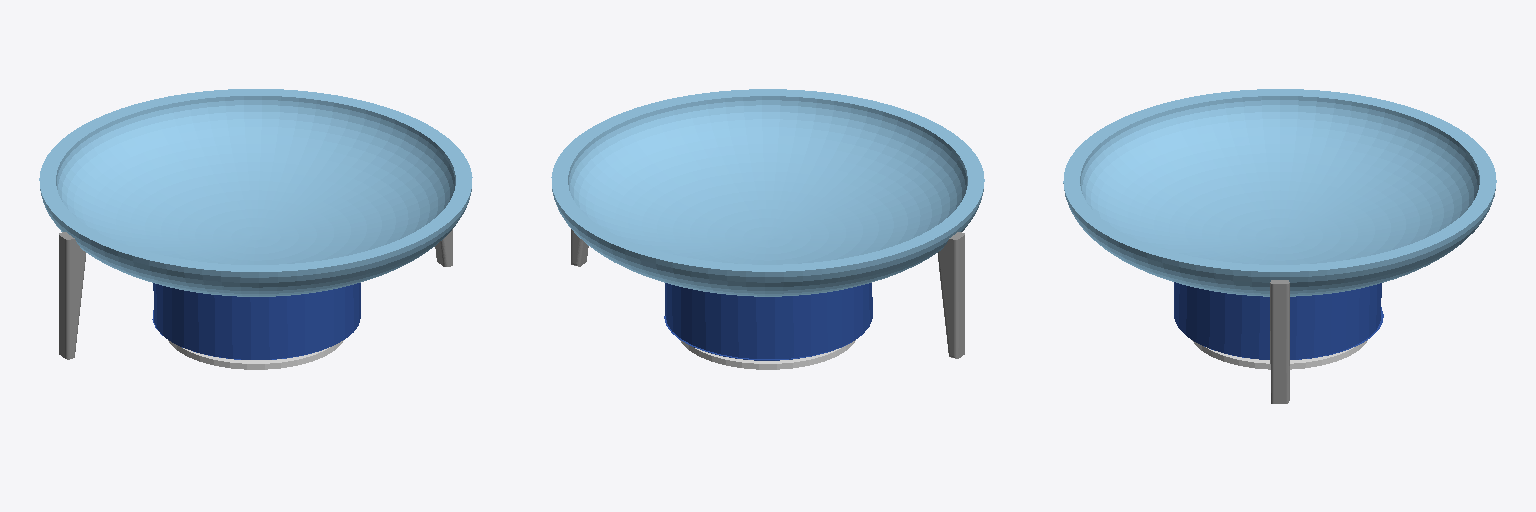
The model's file is part_dips_coarse_rot.obj.
The picture shows the model from 3 angles: view 1: azimuth 30°, elevation 25°; view 2: azimuth 150°, elevation 25°; view 3: azimuth 270°, elevation 25°; orthographic projection.
Visible parts, largest first — view 1: mesh32, mesh30, mesh33, mesh34, mesh15, mesh27, mesh12, mesh13; view 2: mesh32, mesh30, mesh33, mesh34, mesh21, mesh27, mesh12, mesh16; view 3: mesh32, mesh30, mesh33, mesh34, mesh0, mesh27.
Part boxes in pixels (x1,y1,x2,y2): mesh32: (56,96,455,264); mesh30: (153,283,360,359); mesh33: (39,89,472,271); mesh34: (40,189,471,296); mesh15: (70,239,84,358); mesh27: (168,340,343,369); mesh12: (59,235,64,357); mesh13: (65,239,69,359); mesh32: (568,96,967,264); mesh30: (665,283,872,360); mesh33: (551,89,984,271); mesh34: (552,189,983,296); mesh21: (939,239,953,355); mesh27: (680,340,855,369); mesh12: (959,235,964,357); mesh16: (954,239,958,358); mesh32: (1080,96,1479,264); mesh30: (1174,282,1381,359); mesh33: (1063,89,1496,271); mesh34: (1063,183,1495,296); mesh0: (1274,284,1285,403); mesh27: (1192,340,1367,369).
Bounding box in the file's own units: 0.2479 × 0.0926 × 0.2399.